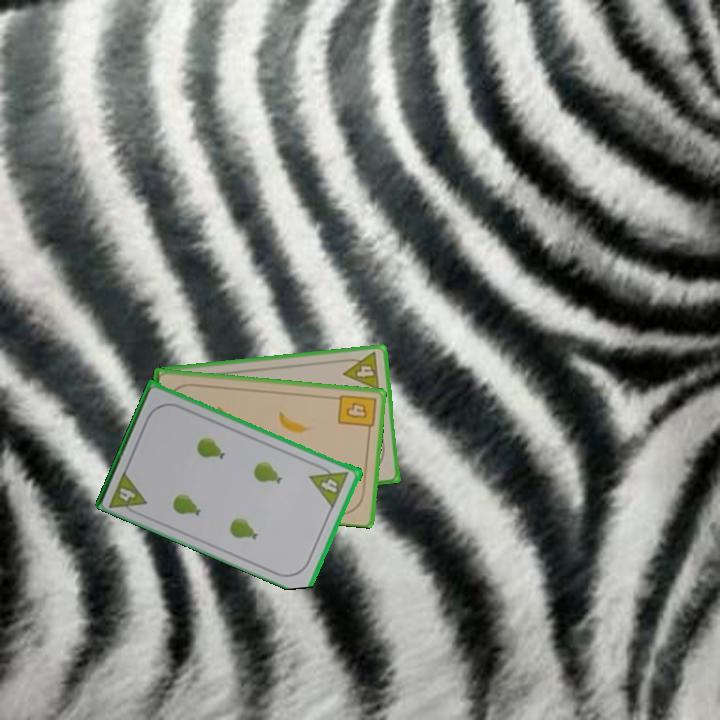4b: (334, 391, 379, 436)
4p: (106, 466, 150, 519), (307, 460, 352, 510), (339, 349, 382, 393)
